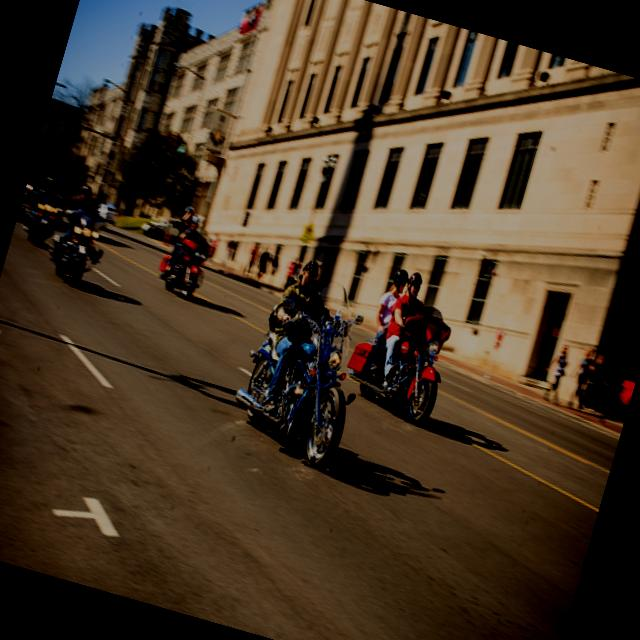Vehicle: (220, 310, 370, 474), (337, 290, 459, 428), (152, 222, 220, 310), (43, 202, 109, 288), (19, 182, 68, 247), (136, 208, 184, 247), (94, 202, 122, 228)
